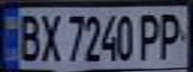0: (115, 11, 136, 62)
2: (81, 11, 103, 62)
4: (100, 11, 121, 62)
7: (63, 10, 84, 63)
B: (12, 10, 42, 62)
P: (154, 8, 187, 61), (136, 10, 163, 61)
X: (36, 9, 63, 63)
